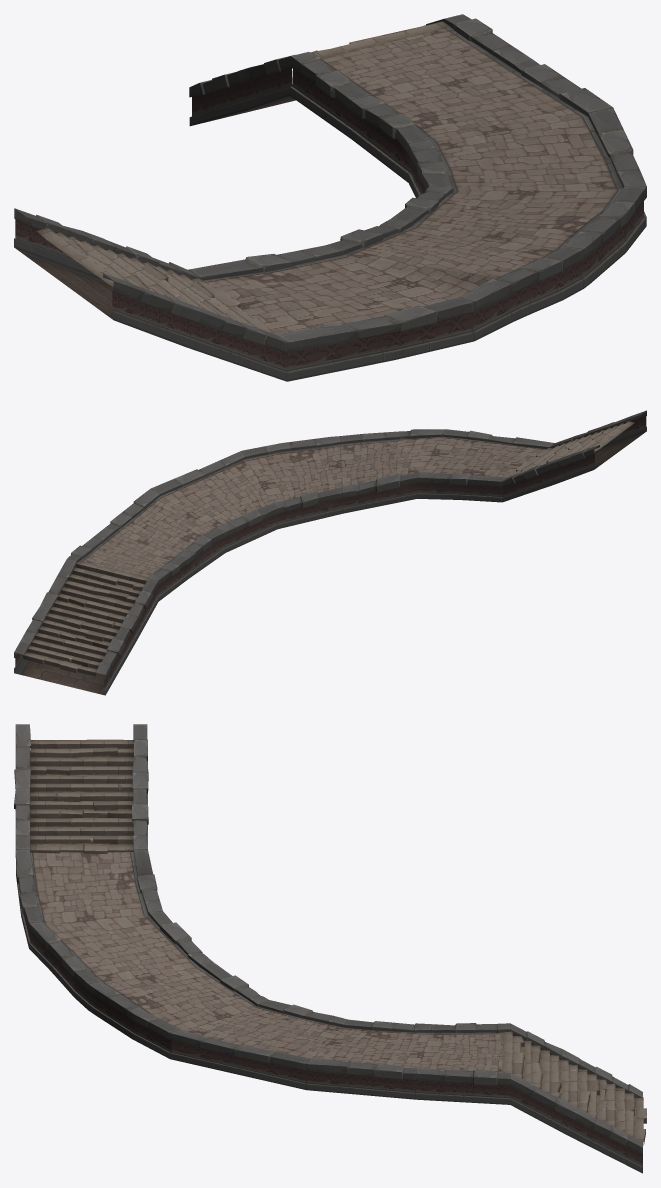
The model's file is sc_dungeon_moshenta_building_006.FBX.
3 views of the same model, one above another, from view 1: azimuth 30°, elevation 25°; view 2: azimuth 150°, elevation 25°; view 3: azimuth 270°, elevation 25° (orthographic). The views are drawn at different scales.
Parts seen in each view (by area): view 1: sc_dungeon_moshenta_building_006_b, sc_dungeon_moshenta_building_006_a, sc_dungeon_moshenta_building_006_c; view 2: sc_dungeon_moshenta_building_006_b, sc_dungeon_moshenta_building_006_c, sc_dungeon_moshenta_building_006_a; view 3: sc_dungeon_moshenta_building_006_b, sc_dungeon_moshenta_building_006_a, sc_dungeon_moshenta_building_006_c.
Boxes of the visible parts, x1=… form: sc_dungeon_moshenta_building_006_b: x1=188, y1=14, x2=646, y2=381; sc_dungeon_moshenta_building_006_a: x1=14, y1=208, x2=287, y2=381; sc_dungeon_moshenta_building_006_c: x1=189, y1=19, x2=453, y2=126; sc_dungeon_moshenta_building_006_b: x1=67, y1=429, x2=554, y2=601; sc_dungeon_moshenta_building_006_c: x1=14, y1=558, x2=158, y2=695; sc_dungeon_moshenta_building_006_a: x1=502, y1=410, x2=646, y2=502; sc_dungeon_moshenta_building_006_b: x1=15, y1=849, x2=510, y2=1104; sc_dungeon_moshenta_building_006_a: x1=14, y1=724, x2=148, y2=868; sc_dungeon_moshenta_building_006_c: x1=502, y1=1023, x2=646, y2=1173.
Bounding box in the file's own units: 51.13 × 58.38 × 21.98.
Materials: 1 (1 with a texture image).
